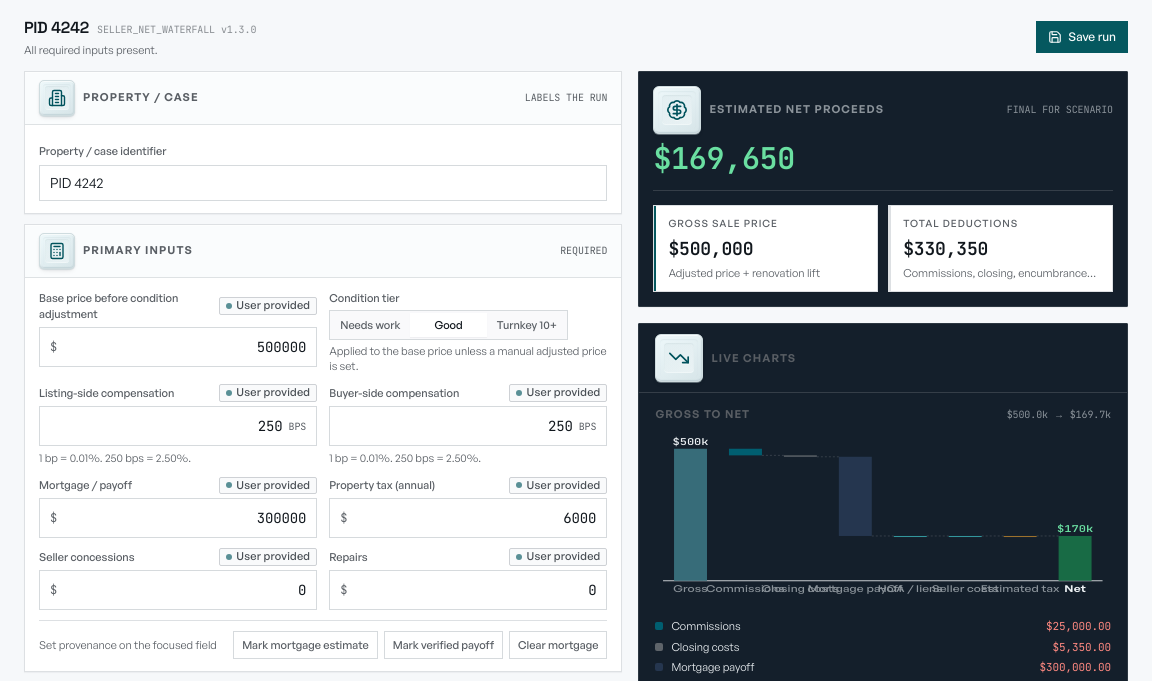
segmented control selection contract › reflects the selected condition tier with aria-pressed and retargets the price
Click the button with test id "inputs.condition_tier.needs_work" at (370, 325), box [332,313,408,337]
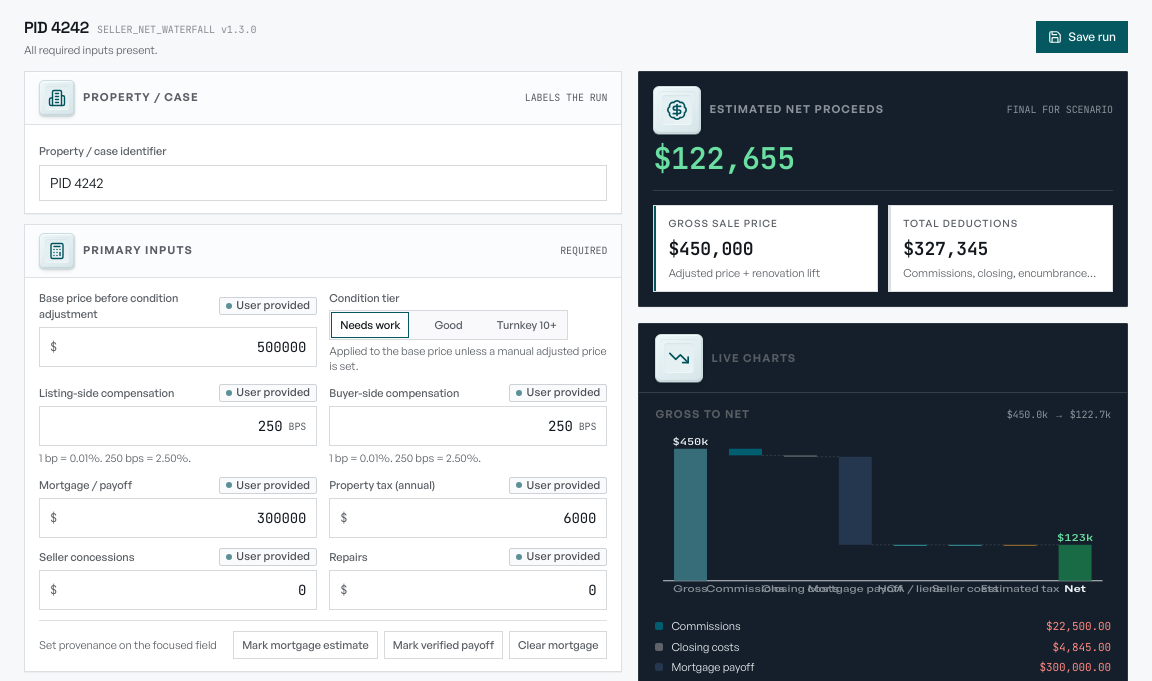
Expected: the text "$450,000" is shown, [668,236,753,260]
